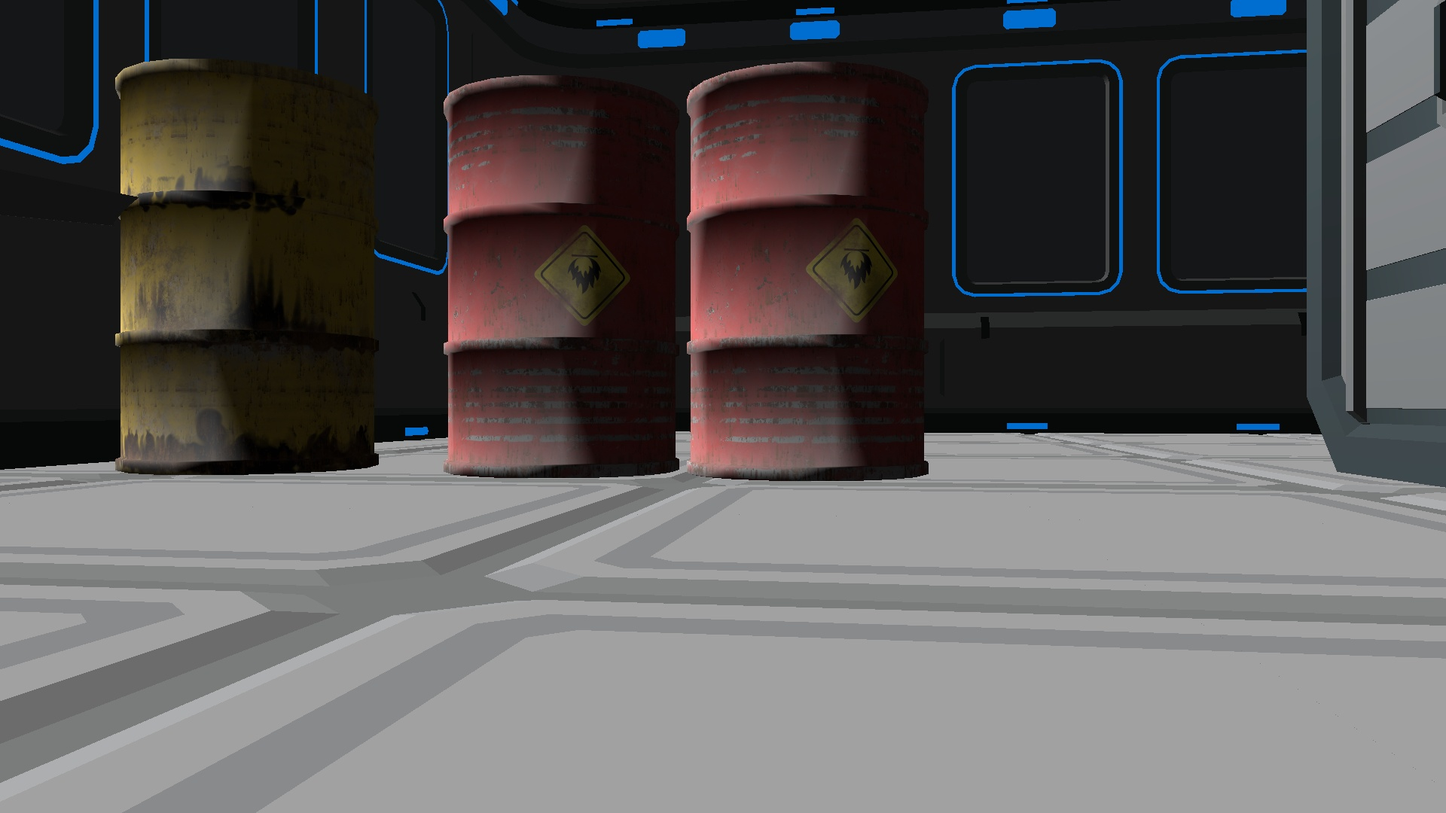toxic barrel: (115, 58, 379, 476), (686, 62, 929, 482), (443, 74, 680, 479)
